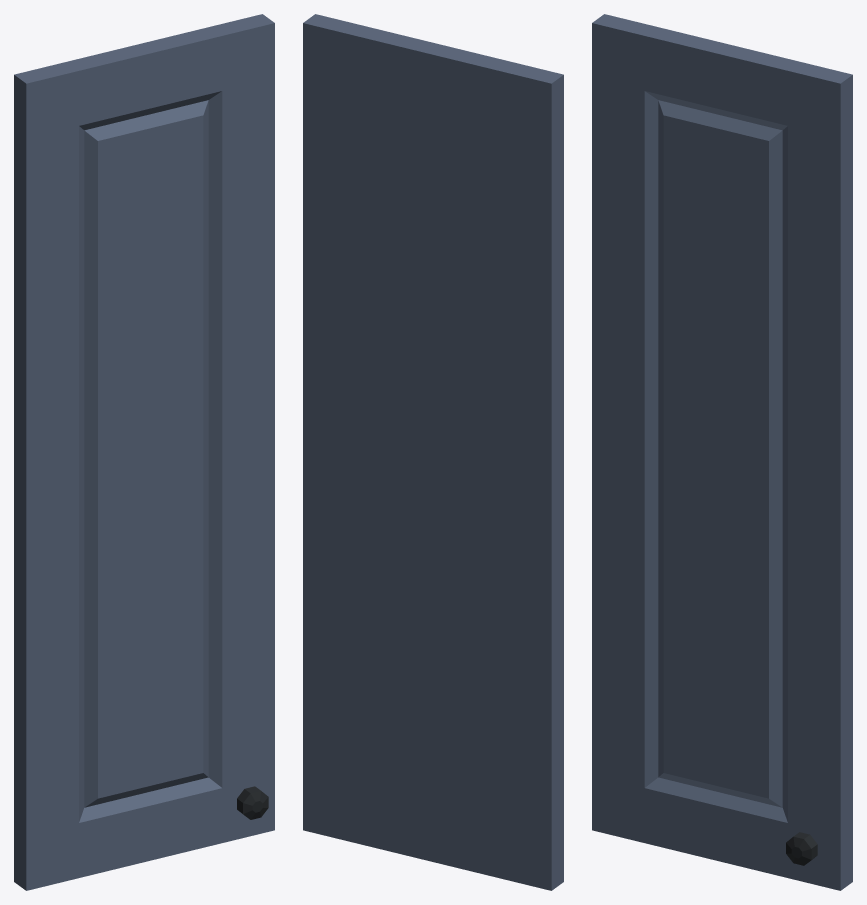
The model's file is Door3_C4_14.fbx.
3 views of the same model, side by side, from view 1: azimuth 30°, elevation 25°; view 2: azimuth 150°, elevation 25°; view 3: azimuth 330°, elevation 25° (orthographic).
Parts seen in each view (by area): view 1: Door3_C4_14; view 2: Door3_C4_14; view 3: Door3_C4_14.
Part boxes in pixels (box(x1,y1,x2,y2)): Door3_C4_14: box(14, 14, 274, 890); Door3_C4_14: box(303, 14, 563, 890); Door3_C4_14: box(592, 14, 852, 890).
Bounding box in the file's own units: 29 × 90 × 5.19.
